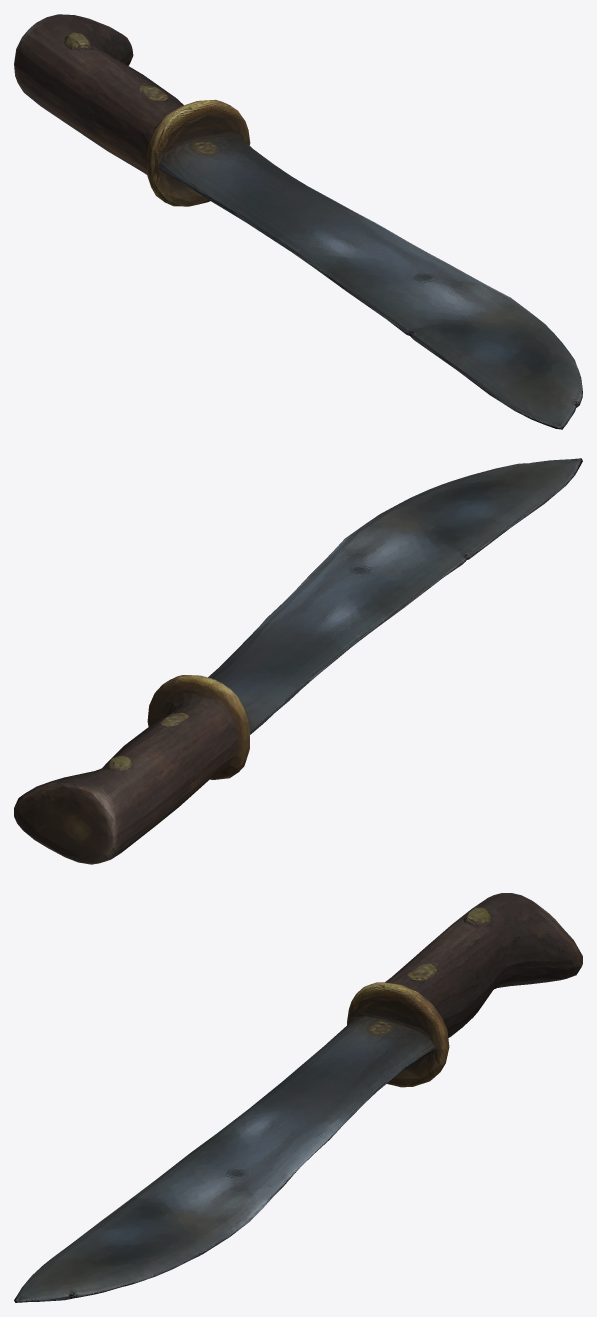
Rendered from machete3d.glb.
3 renders of one model, top to bottom at view 1: azimuth 30°, elevation 25°; view 2: azimuth 150°, elevation 25°; view 3: azimuth 330°, elevation 25°, orthographic.
Parts seen in each view (by area): view 1: world; view 2: world; view 3: world.
Part boxes in pixels (x1,y1,x2,y2): world: [14, 14, 582, 429]; world: [14, 458, 582, 864]; world: [14, 893, 582, 1302].
Bounding box in the file's own units: 0.1522 × 0.1089 × 1.
1 material, 1 textured.
